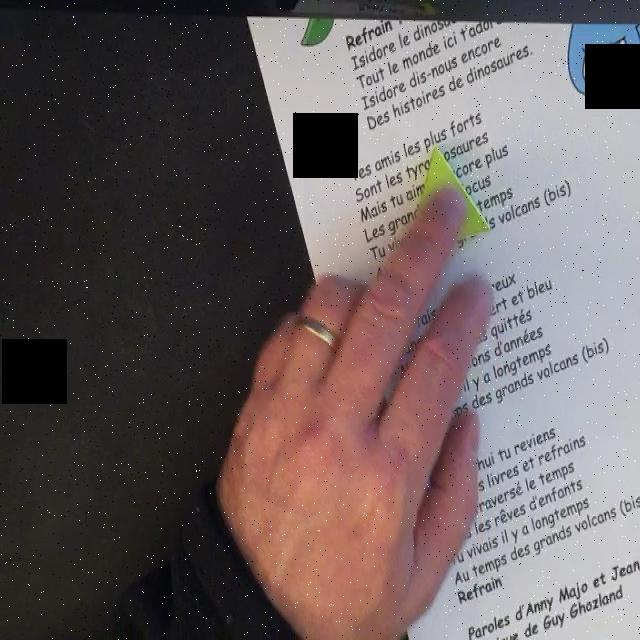triangle: (409, 143, 492, 241)
